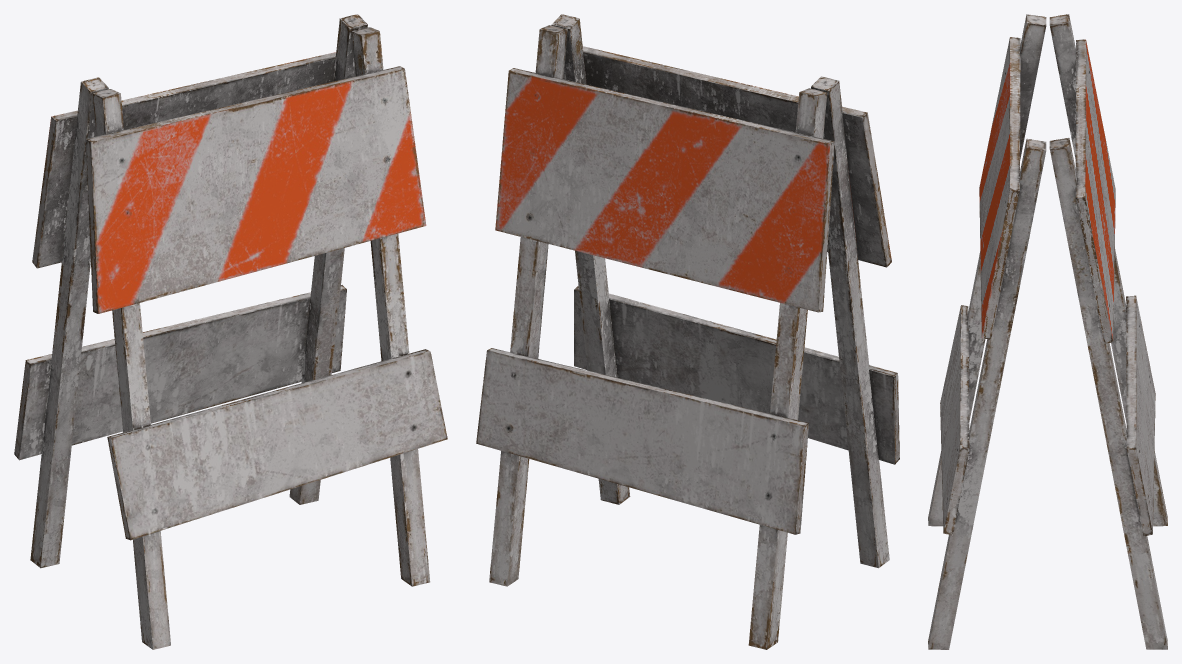
The model's file is barricade.glb.
The picture shows the model from 3 angles, left to right: view 1: azimuth 30°, elevation 25°; view 2: azimuth 150°, elevation 25°; view 3: azimuth 270°, elevation 25°; orthographic projection. The views are drawn at different scales.
Parts seen in each view (by area): view 1: polySurface1, Wood_stand_LP:pCube25, Wood_stand_LP:pCube26, polySurface2; view 2: polySurface2, Wood_stand_LP:pCube25, Wood_stand_LP:pCube26, polySurface1; view 3: Wood_stand_LP:pCube26, Wood_stand_LP:pCube25, polySurface1, polySurface2.
Part boxes in pixels (x1,y1,x2,y2): polySurface1: [85, 66, 426, 313]; Wood_stand_LP:pCube25: [14, 285, 447, 540]; Wood_stand_LP:pCube26: [30, 14, 430, 649]; polySurface2: [32, 52, 336, 268]; polySurface2: [495, 68, 834, 312]; Wood_stand_LP:pCube25: [476, 285, 899, 534]; Wood_stand_LP:pCube26: [489, 14, 889, 649]; polySurface1: [582, 46, 891, 267]; Wood_stand_LP:pCube26: [928, 14, 1167, 649]; Wood_stand_LP:pCube25: [940, 295, 1155, 536]; polySurface1: [979, 37, 1020, 339]; polySurface2: [1075, 39, 1115, 344].
Size of the model in its own units: 66.28 by 98.65 by 42.55.
1 material, 1 textured.
